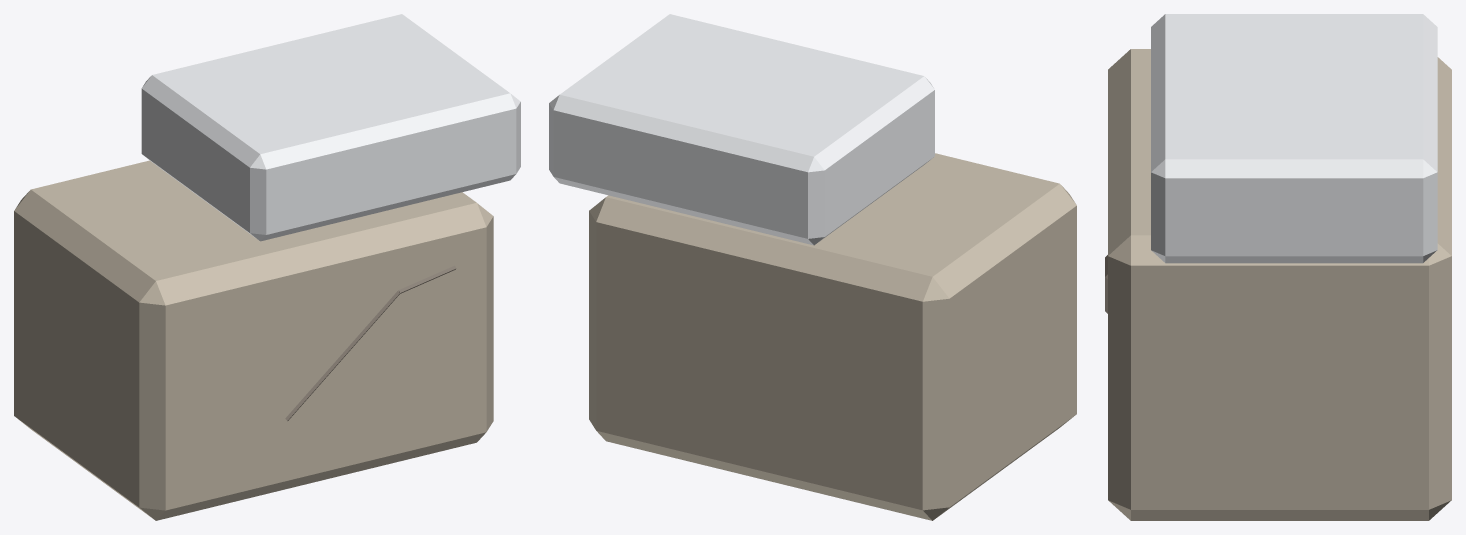
Rendered from res_marble.glb.
The picture shows the model from 3 angles, left to right: view 1: azimuth 30°, elevation 25°; view 2: azimuth 150°, elevation 25°; view 3: azimuth 270°, elevation 25°; orthographic projection. The views are drawn at different scales.
Parts seen in each view (by area): view 1: res_marble; view 2: res_marble; view 3: res_marble.
Boxes of the visible parts, bbox=[...] form: res_marble: bbox=[14, 14, 520, 520]; res_marble: bbox=[549, 14, 1076, 520]; res_marble: bbox=[1105, 14, 1451, 520].
Bounding box in the file's own units: 0.19 × 0.15 × 0.121.
